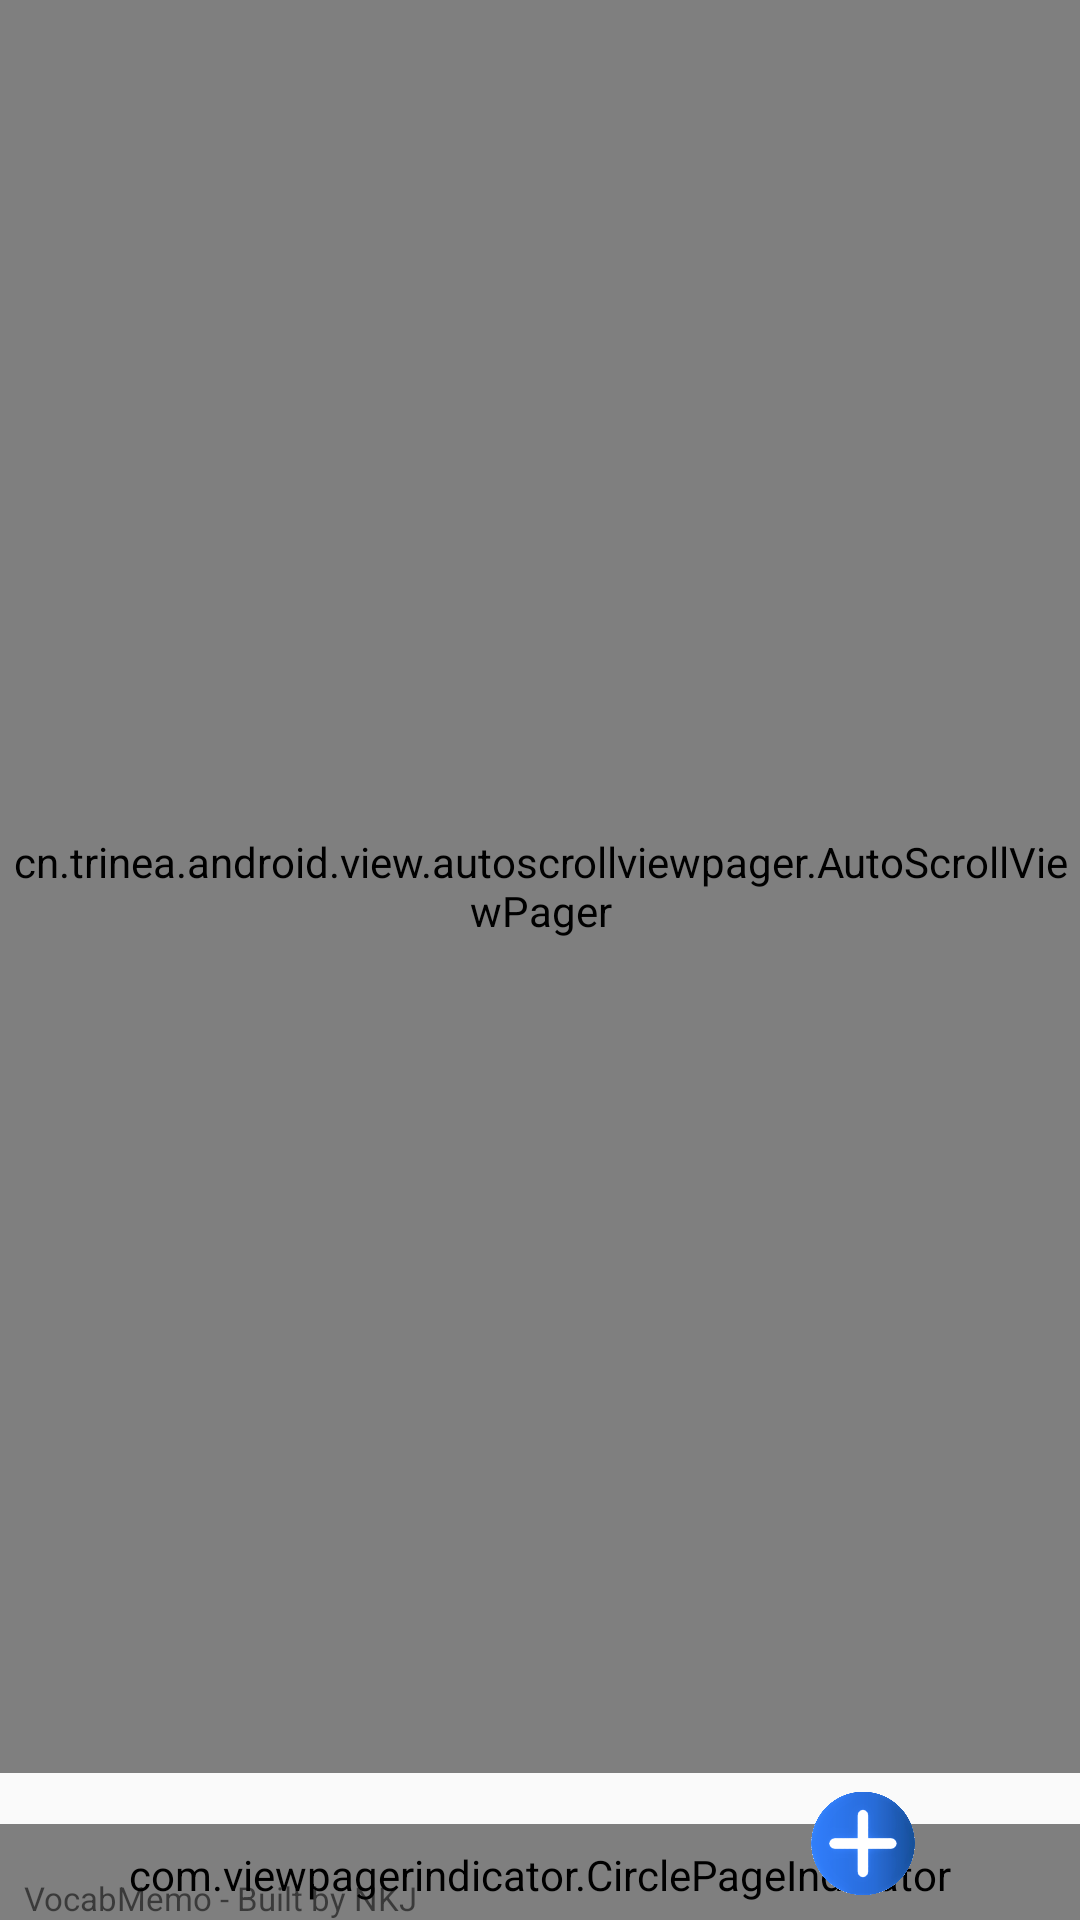

Named icons in this screenshot (1080 x 1920) and their centers, (x,y):
add: (862,1843)
